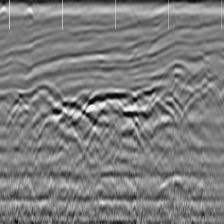cavities: (11, 79, 180, 139)
